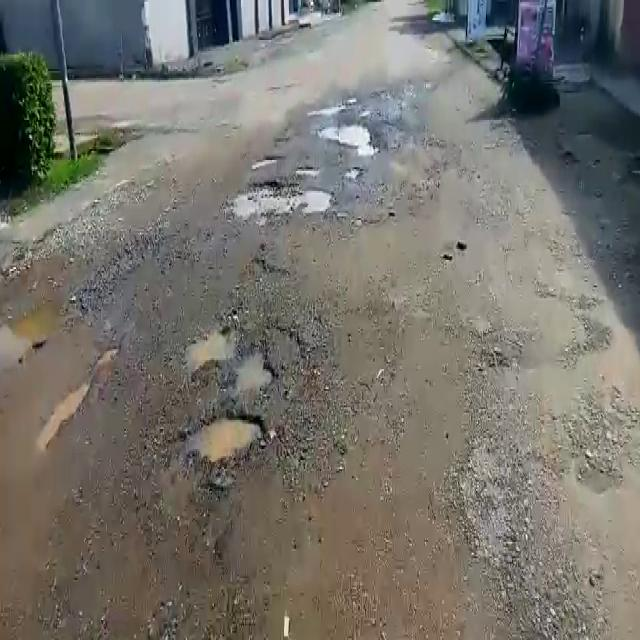Pothole: (184, 318, 276, 390), (186, 408, 267, 465), (225, 178, 332, 221), (323, 119, 384, 155), (312, 101, 353, 119), (250, 153, 285, 167)
